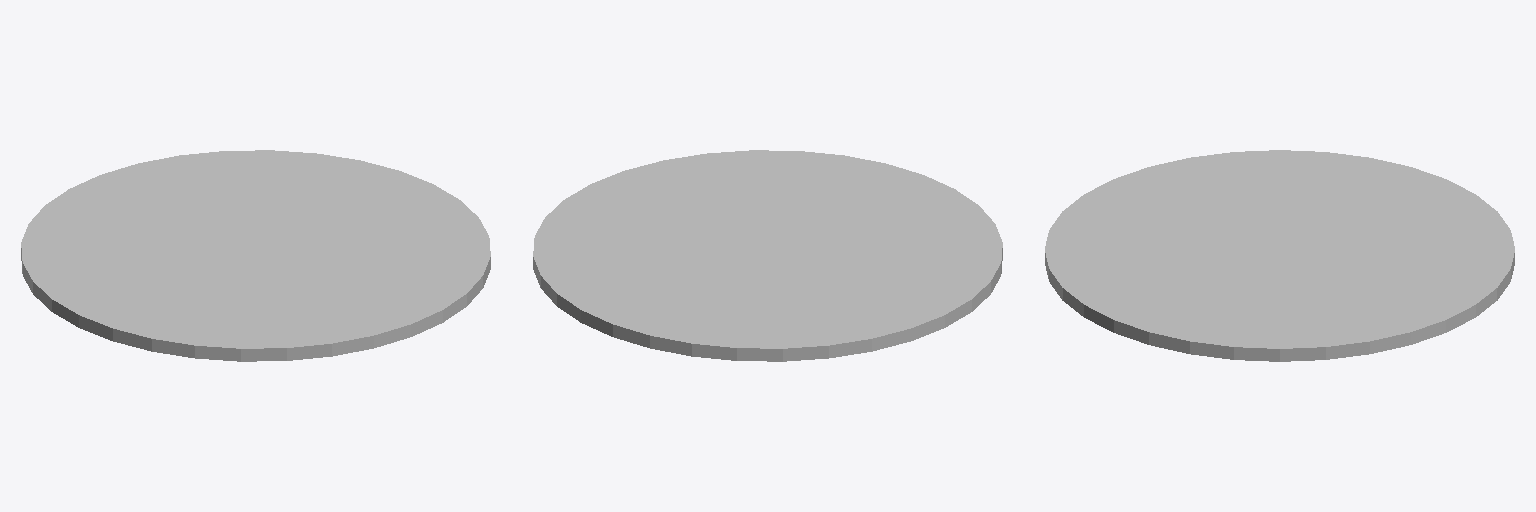
3 renders of one model, left to right at view 1: azimuth 30°, elevation 25°; view 2: azimuth 150°, elevation 25°; view 3: azimuth 270°, elevation 25°, orthographic.
Visible parts, largest first — view 1: Zylinder; view 2: Zylinder; view 3: Zylinder.
Part boxes in pixels (bbox=[...]): Zylinder: bbox=[21, 150, 490, 361]; Zylinder: bbox=[533, 150, 1002, 361]; Zylinder: bbox=[1045, 150, 1514, 361].
Bounding box in the file's own units: 13.41 × 0.4056 × 13.41.